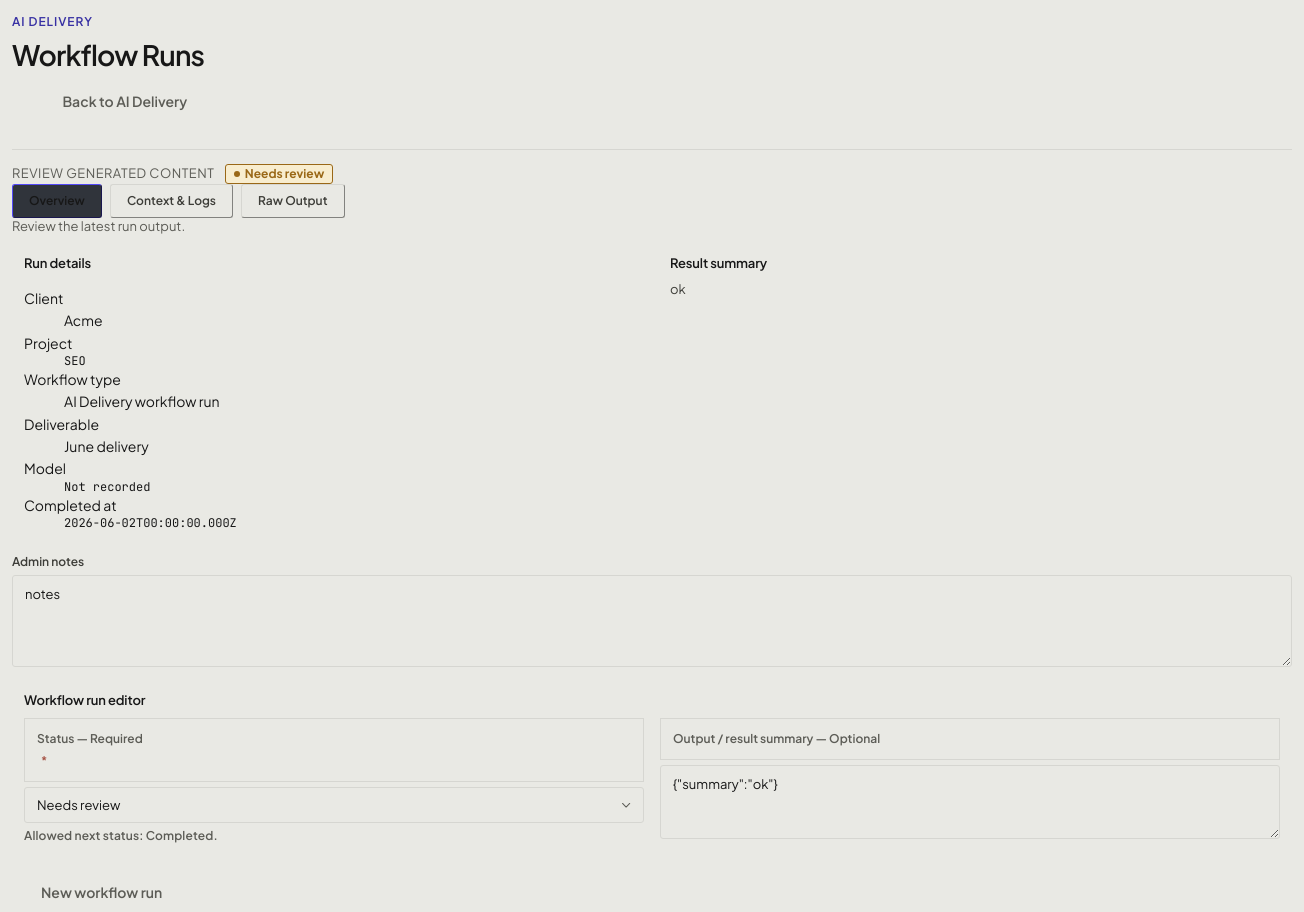
Test: AiRunReviewModal › keeps populated run data visible when switching tabs
Expected: the text "Review the latest run output." is shown, [12,218,185,234]
Click the tab "Context & Logs": (171,201) [110,184,233,218]
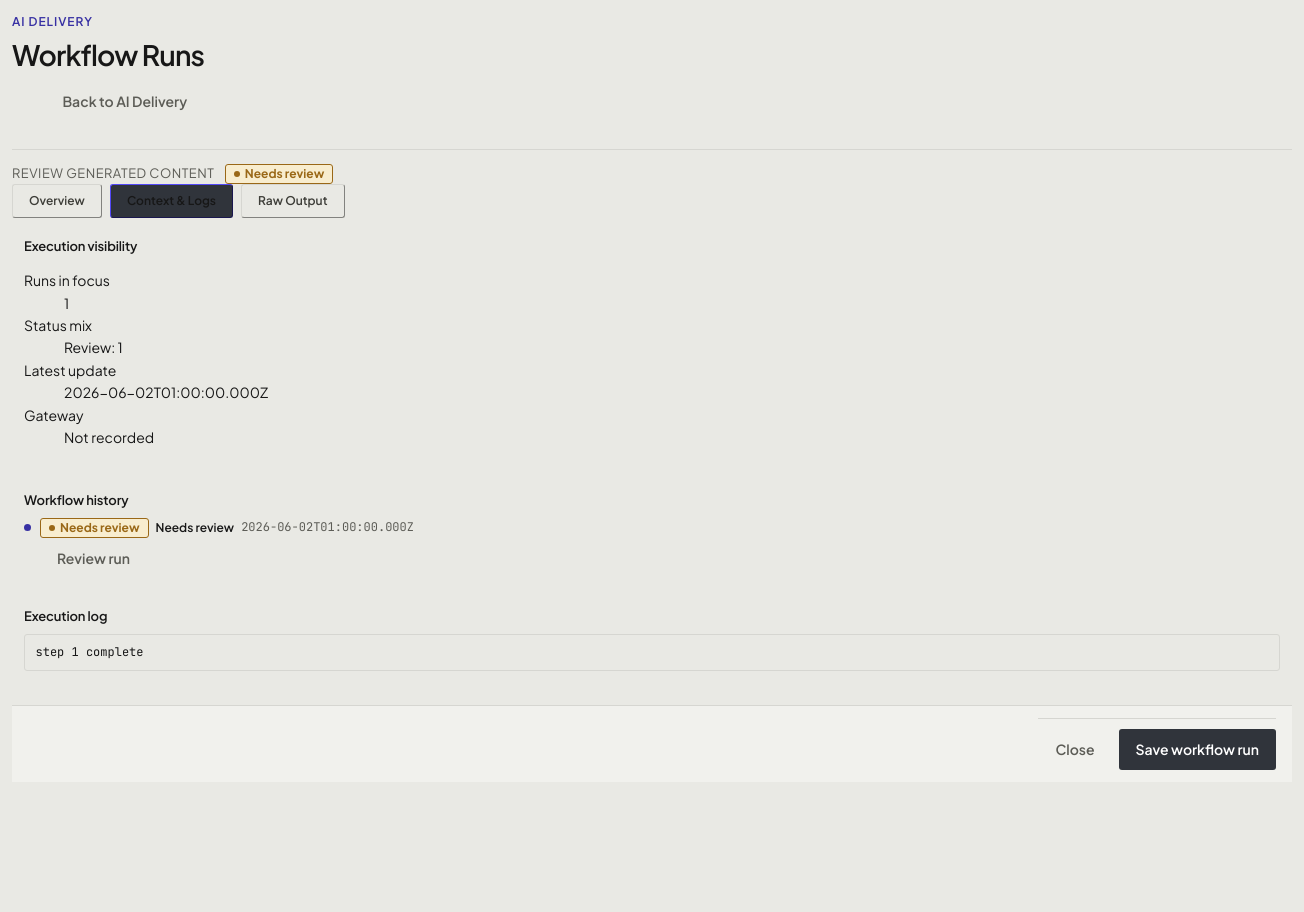
Expected: the heading "Execution log" is shown, [24,608,107,624]
Now the panel named "Context & Logs" is shown, box [12,228,1292,681]
Click the tab "Raw Output": (293,201) [241,184,344,218]
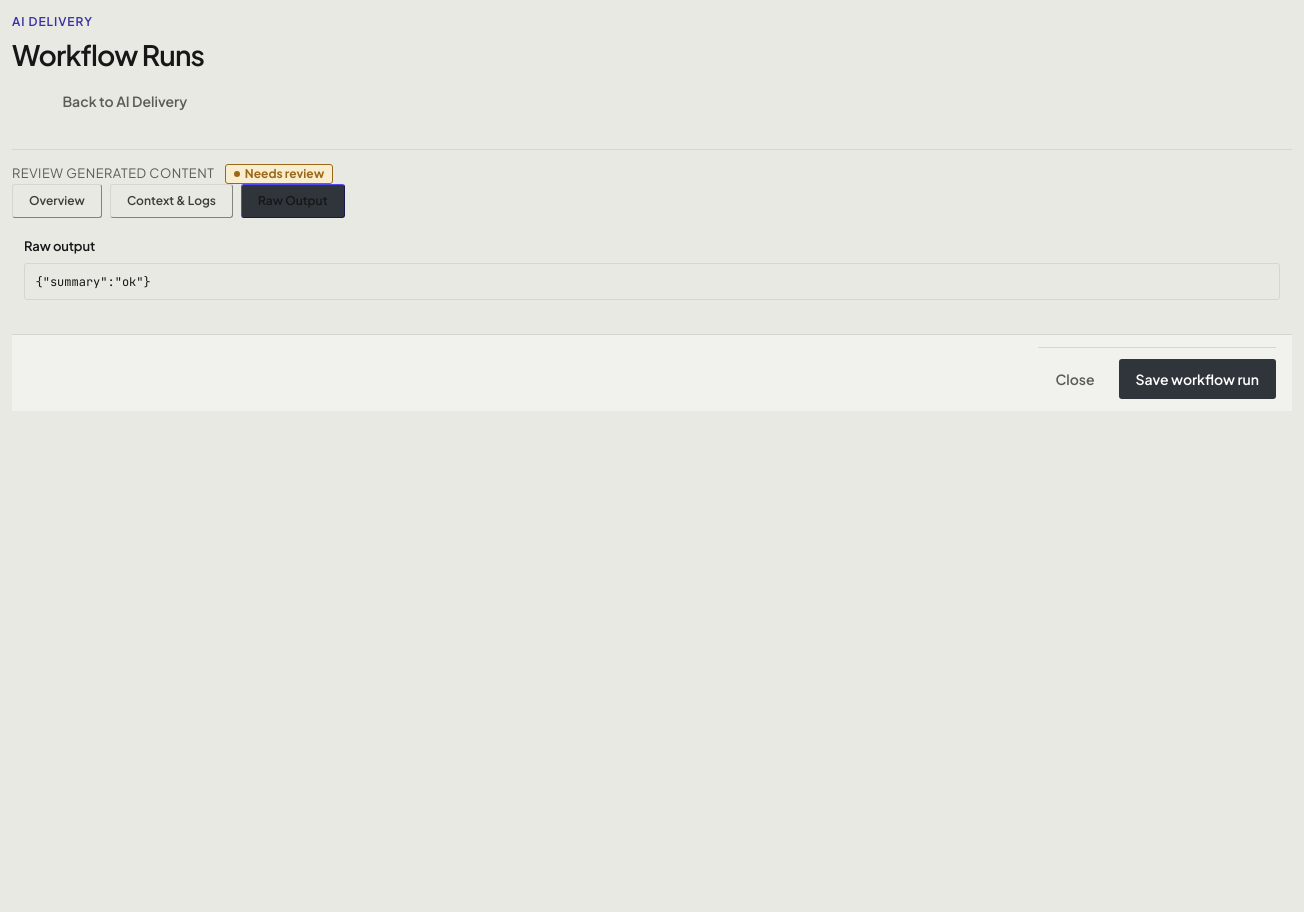
Now the panel "Raw output" is shown, box [12,228,1292,310]
Now the text "{\"summary\":\"ok\"}" is shown, box [24,263,1280,300]
